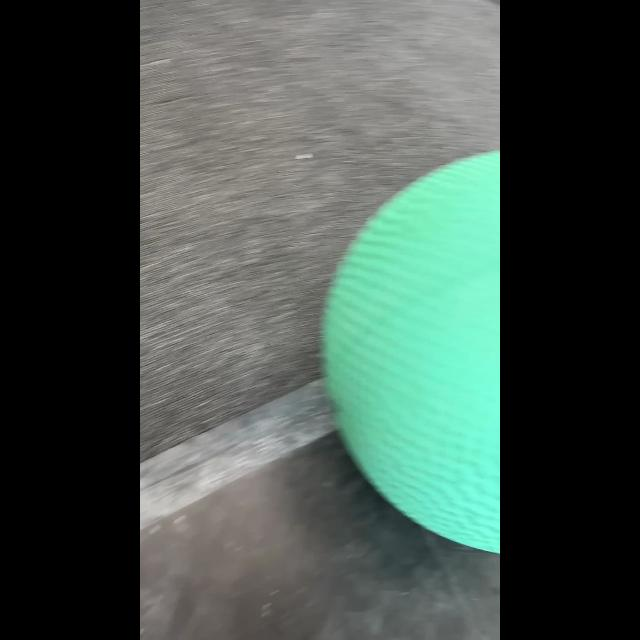ALGAE: (319, 150, 499, 554)
